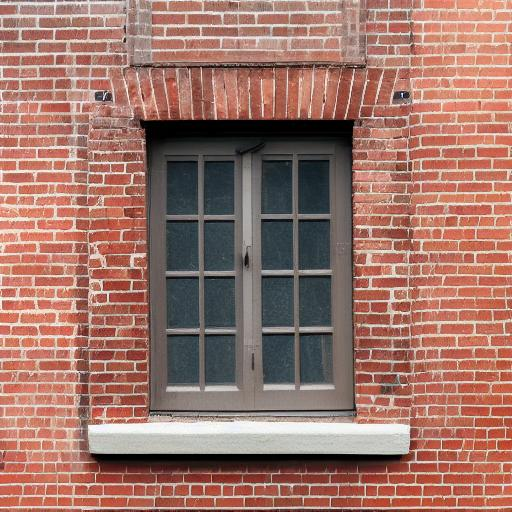Window: (88, 66, 414, 465)
